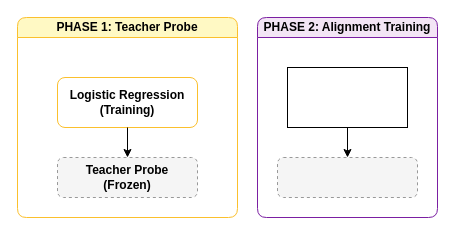
This 455x235 diagram has some shape labels left out. Each missing label, with the centre of its shape:
"Aligner (Frozen)" goes at point 347,177.
"Ridge Regression (Training)" goes at point 347,97.
